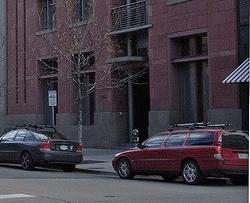car: (112, 127, 250, 186), (0, 125, 84, 172)
